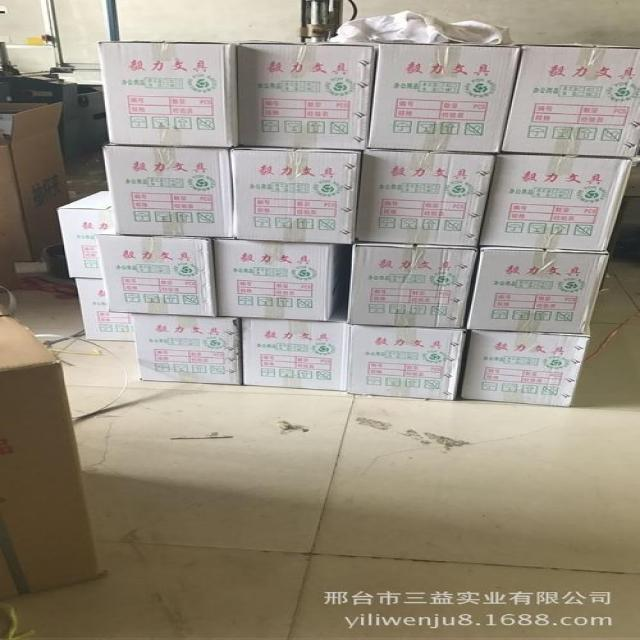box: (1, 302, 101, 600), (366, 44, 521, 153), (478, 155, 635, 255), (499, 45, 639, 157), (238, 43, 376, 151), (100, 43, 238, 147), (354, 151, 498, 249), (232, 148, 362, 245), (467, 246, 608, 335), (103, 146, 232, 238), (347, 242, 478, 328), (0, 104, 71, 262), (214, 238, 344, 323), (98, 232, 216, 318), (459, 329, 590, 406), (347, 325, 465, 402), (239, 308, 346, 390), (134, 314, 239, 384), (59, 191, 120, 279), (74, 279, 134, 342)
